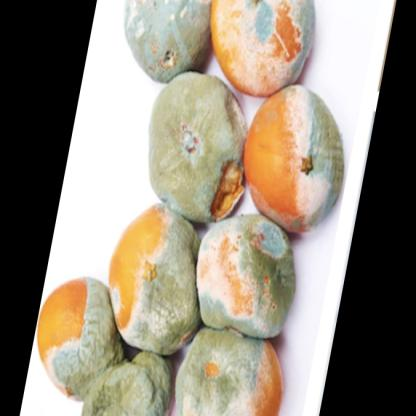rotten: (37, 1, 349, 416)
